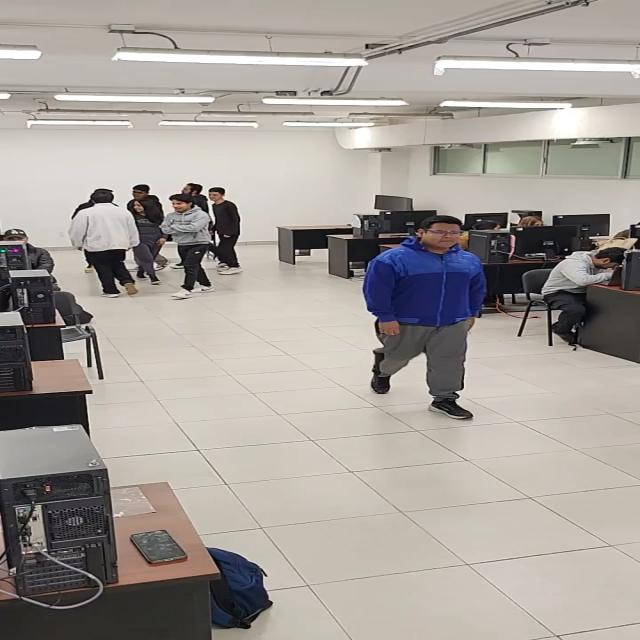Persona: (362, 214, 507, 424), (76, 189, 144, 292), (165, 193, 215, 297), (131, 202, 176, 288), (208, 190, 246, 275), (131, 181, 161, 201)
